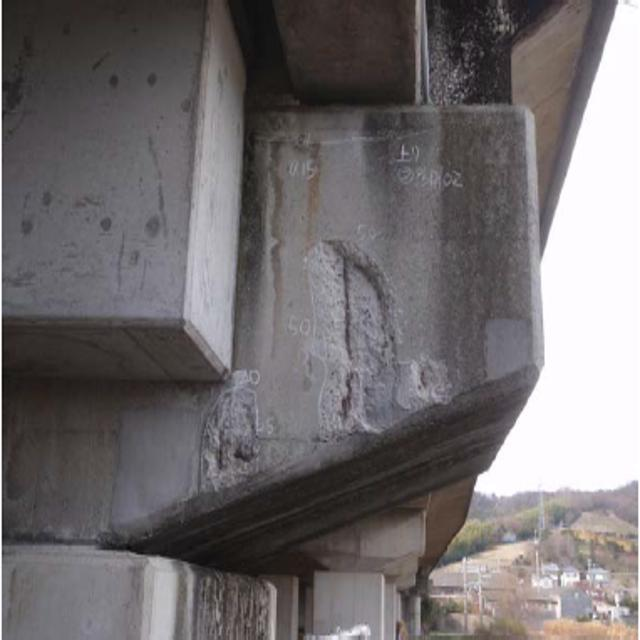spalling: (301, 224, 456, 460), (172, 363, 272, 506)
